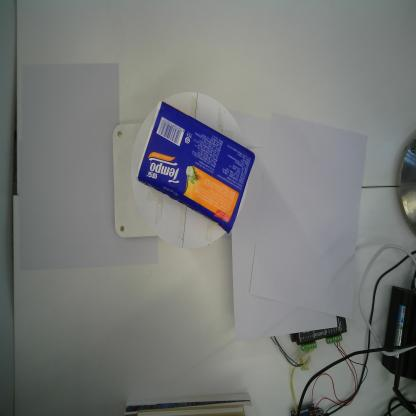Tissue: (134, 98, 256, 236)
